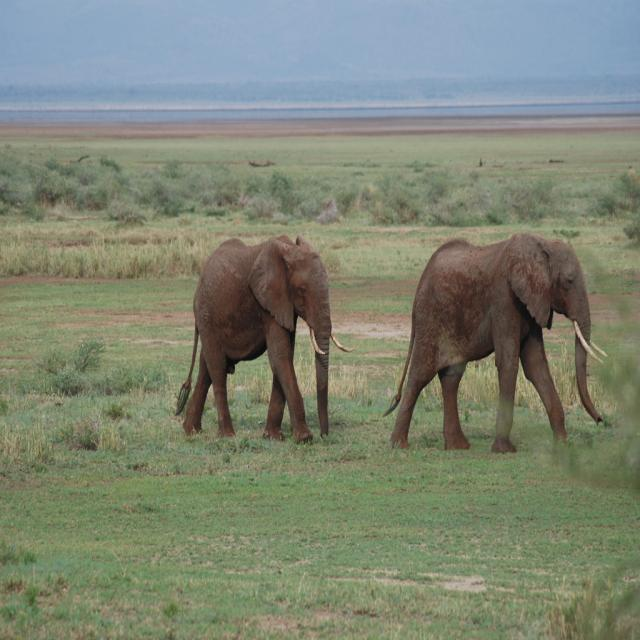elephant: (381, 228, 607, 457), (178, 236, 353, 442)
